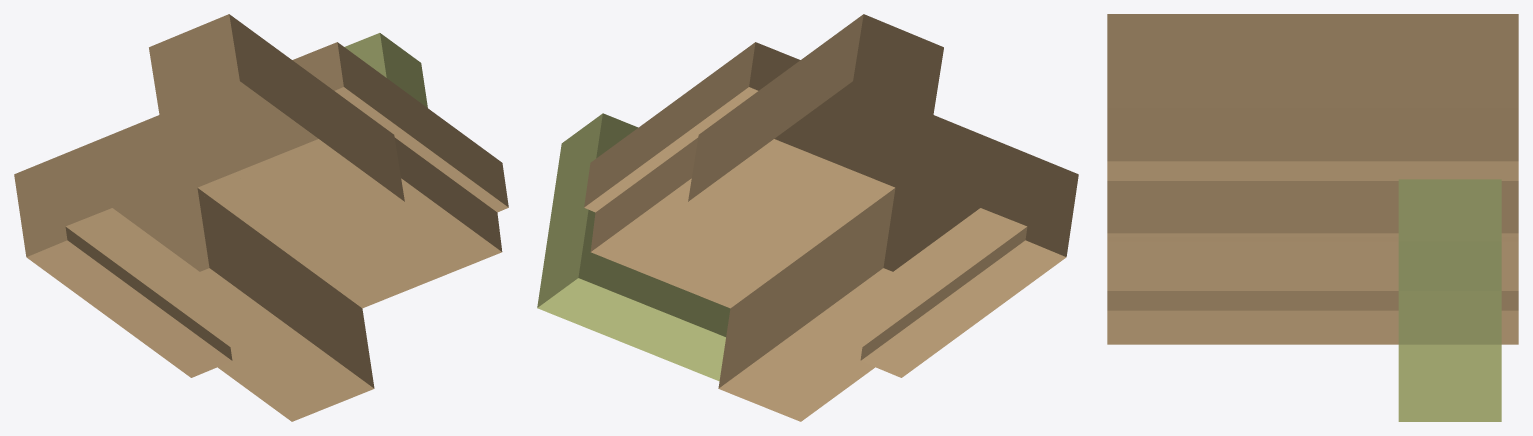
The picture shows the model from 3 angles, left to right: view 1: azimuth 30°, elevation 25°; view 2: azimuth 150°, elevation 25°; view 3: azimuth 270°, elevation 25°; orthographic projection. The views are drawn at different scales.
Visible parts, largest first — view 1: 0_1_2_0_3_1_3_2_1; view 2: 0_1_2_0_3_1_3_2_1; view 3: 0_1_2_0_3_1_3_2_1.
Boxes of the visible parts, bbox=[...] form: 0_1_2_0_3_1_3_2_1: bbox=[14, 14, 508, 421]; 0_1_2_0_3_1_3_2_1: bbox=[537, 14, 1078, 421]; 0_1_2_0_3_1_3_2_1: bbox=[1107, 14, 1518, 421].
Size of the model in its own units: 32.2 by 21.04 by 24.
